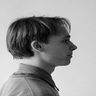ear: (27, 37, 48, 55)
